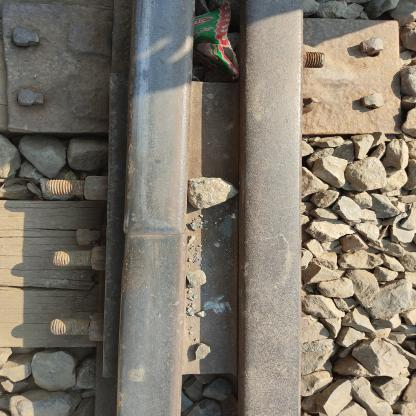Non Defective: (13, 57, 394, 411)
